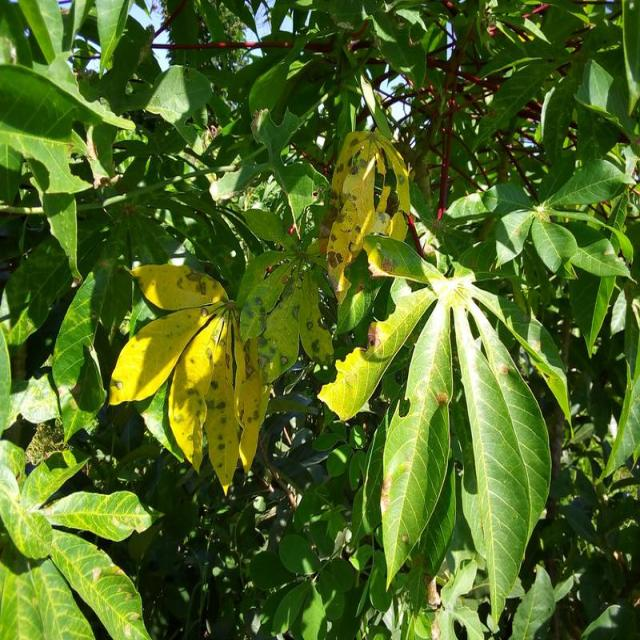cassava leaf: (318, 234, 560, 632), (109, 258, 276, 495)
